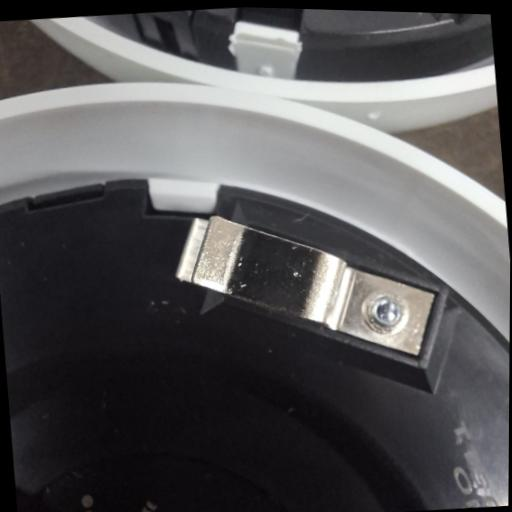yayli: (166, 195, 441, 380)
